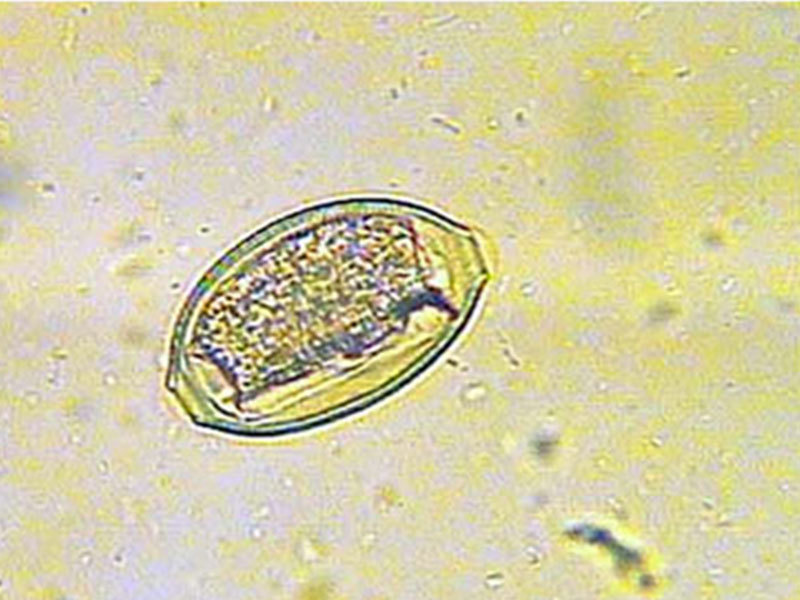Parasite: (117, 158, 512, 435)
